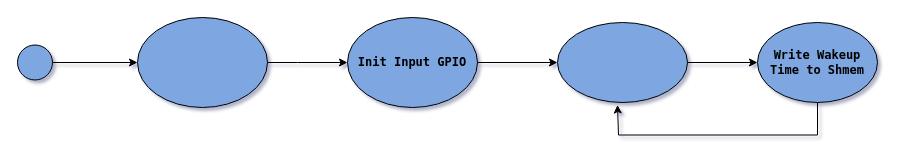
This 901x167 diagram has some shape labels left out. The centre of each missing label's shape, as x and y in pixels:
Init Shared Memory: (x=202, y=62)
Wait for Rising Edge Event: (x=622, y=62)
